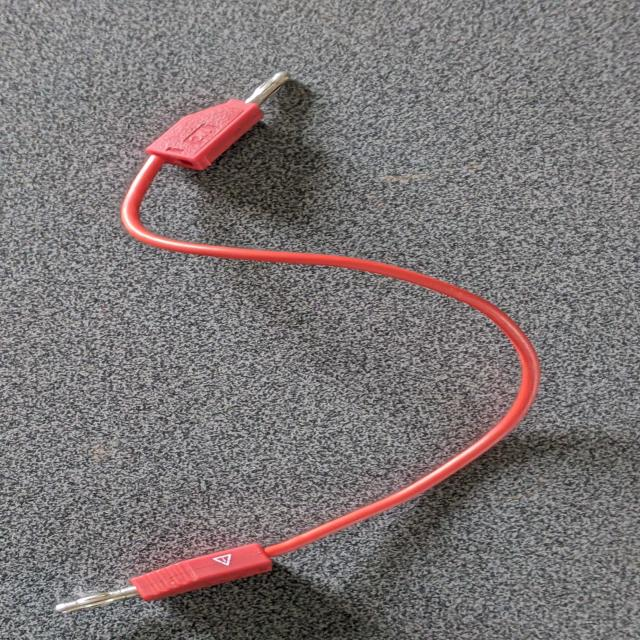BNC Cable: (52, 51, 552, 622)
